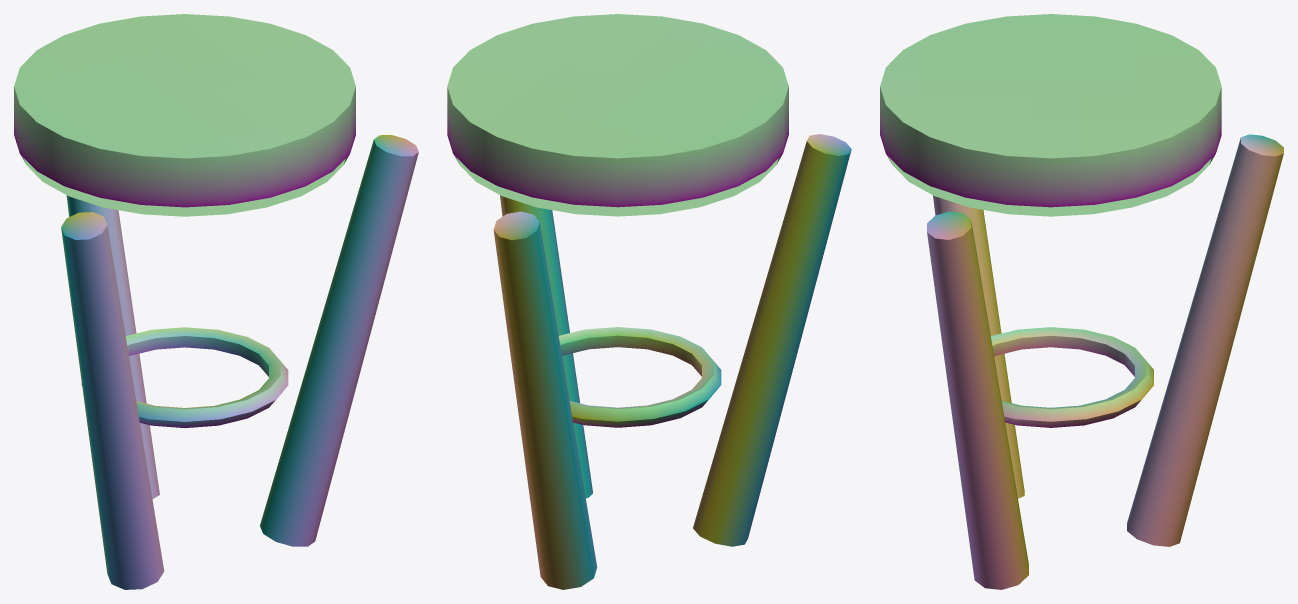
The model's file is stool.glb.
3 renders of one model, left to right at view 1: azimuth 30°, elevation 25°; view 2: azimuth 150°, elevation 25°; view 3: azimuth 270°, elevation 25°, orthographic.
Visible parts, largest first — view 1: kitchen_stool; view 2: kitchen_stool; view 3: kitchen_stool.
Boxes of the visible parts, x1=… form: kitchen_stool: x1=14, y1=14, x2=418, y2=589; kitchen_stool: x1=447, y1=14, x2=851, y2=589; kitchen_stool: x1=880, y1=14, x2=1283, y2=589.
Bounding box in the file's own units: 0.457 × 0.5579 × 0.4491.
